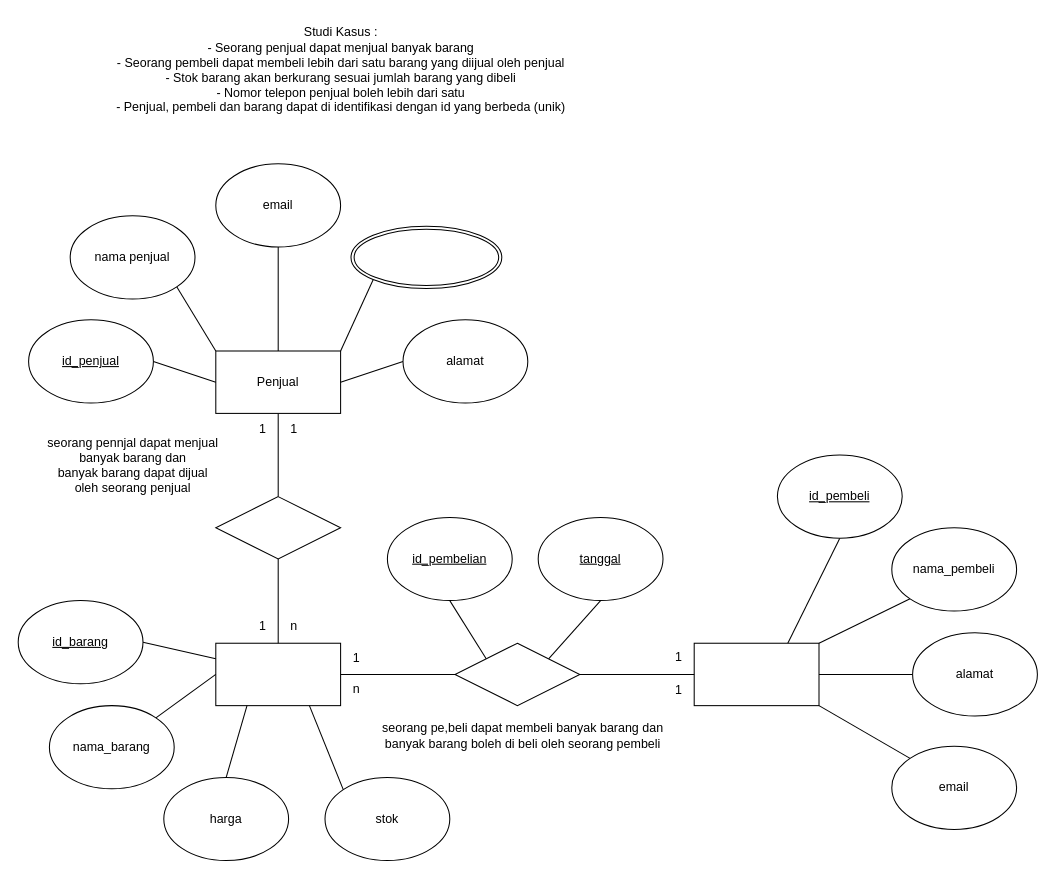
The diagram is 1056 pixels wide and 879 high, and some of its shapes have lost their labels. Each missing label, with the centre of its shape:
Barang: the point at 278,674
Membeli: the point at 517,674
Menjual: the point at 278,527
no_telp: the point at 426,257
Pembeli: the point at 756,674
